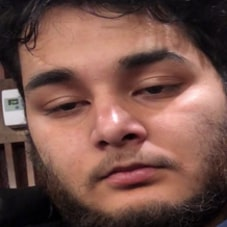drowsy: (20, 46, 199, 200)
